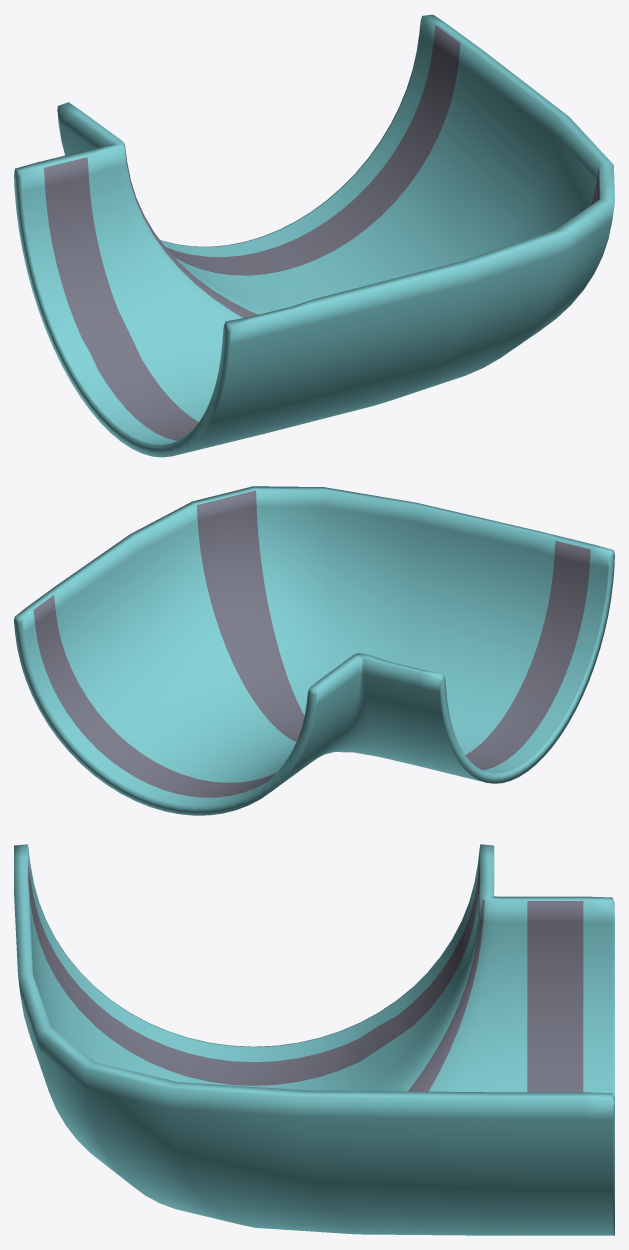
File: ImprovedSlide90bend.fbx
3 views of the same model, one above another, from view 1: azimuth 30°, elevation 25°; view 2: azimuth 150°, elevation 25°; view 3: azimuth 270°, elevation 25° (orthographic). The views are drawn at different scales.
Visible parts, largest first — view 1: Slide90bend; view 2: Slide90bend; view 3: Slide90bend.
Boxes of the visible parts, x1,y1,x2,y2 form: Slide90bend: [14, 14, 614, 457]; Slide90bend: [14, 486, 614, 815]; Slide90bend: [14, 844, 614, 1235].
Size of the model in its own units: 519 by 205 by 515.
